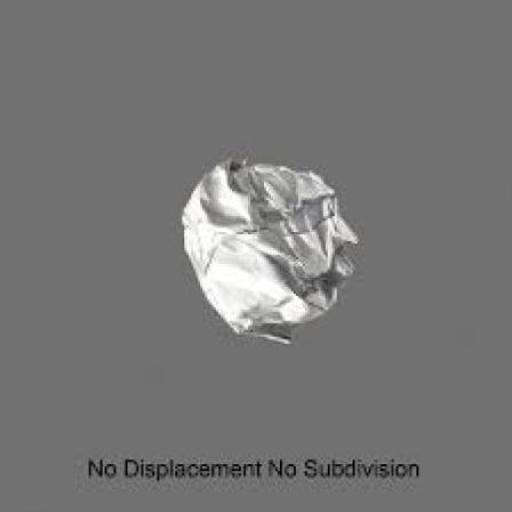paper: (156, 134, 389, 372)
